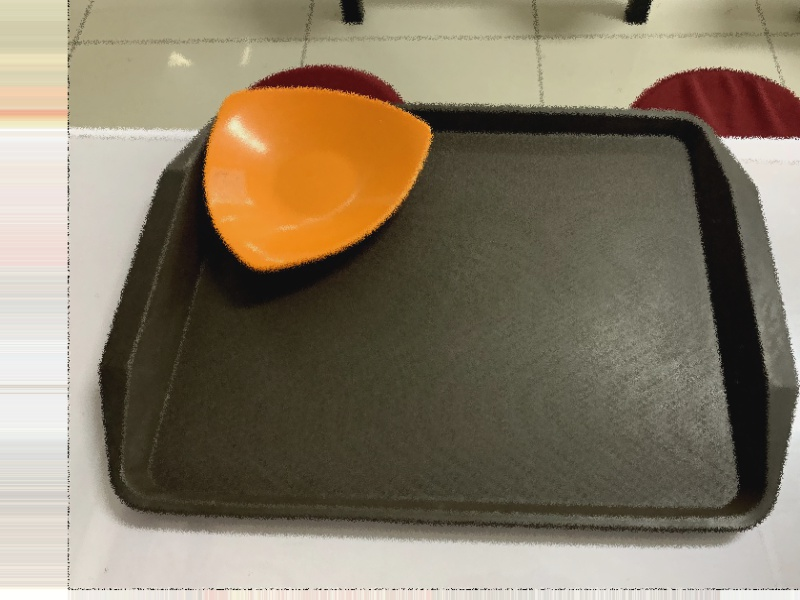dish11: (194, 81, 439, 281)
